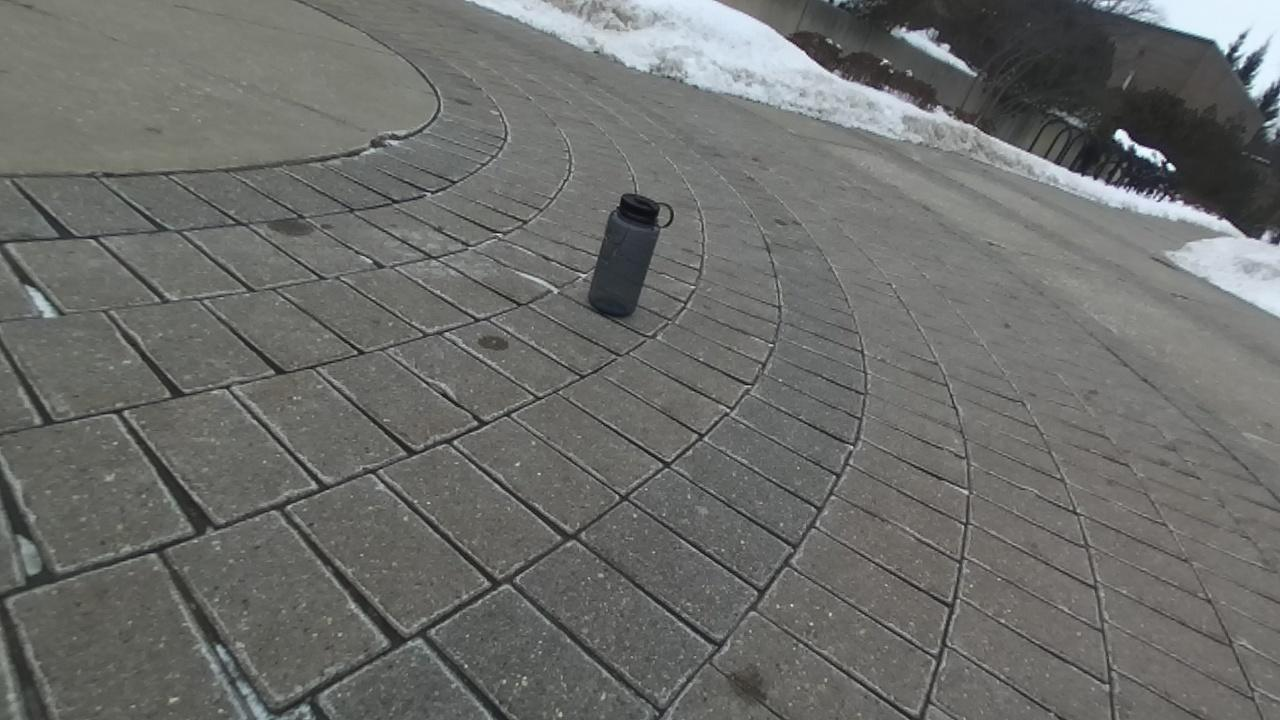bottle: (589, 193, 673, 316)
